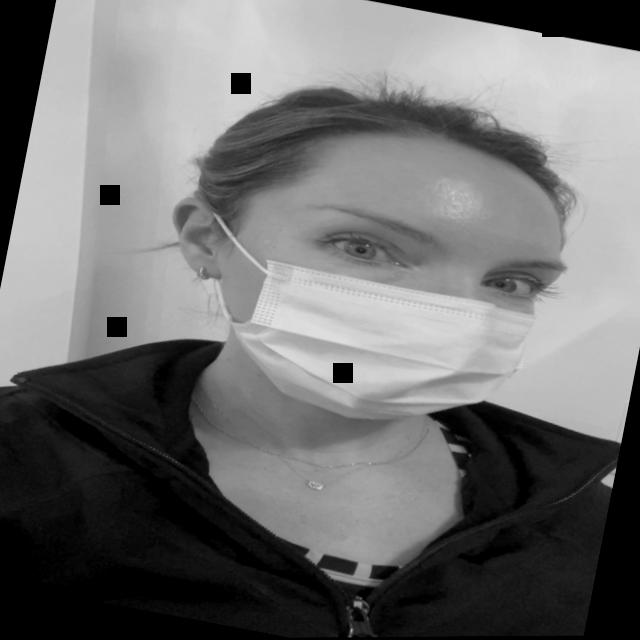Mask: (103, 66, 622, 478)
